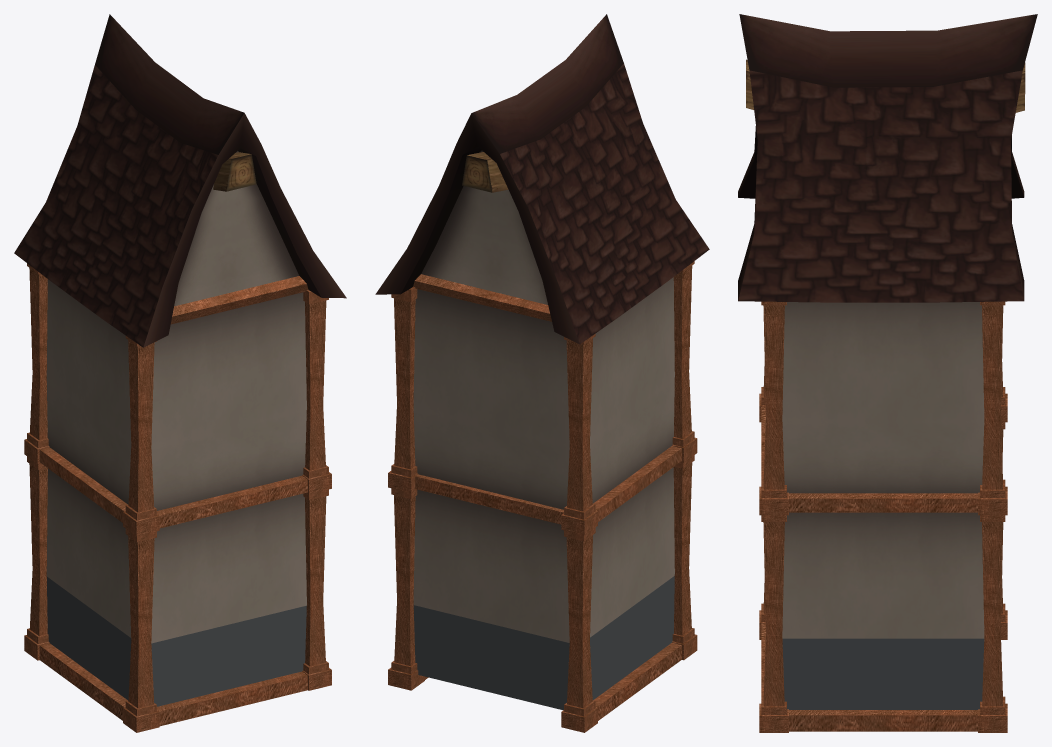
Rendered from fanasty_mod_conjoining_piece_B.fbx.
3 renders of one model, left to right at view 1: azimuth 30°, elevation 25°; view 2: azimuth 150°, elevation 25°; view 3: azimuth 270°, elevation 25°, orthographic. The views are drawn at different scales.
Parts seen in each view (by area): view 1: conjoining_piece_B; view 2: conjoining_piece_B; view 3: conjoining_piece_B.
Part boxes in pixels (left/top/right/bottom): conjoining_piece_B: left=14, top=14, right=346, bottom=732; conjoining_piece_B: left=375, top=14, right=709, bottom=732; conjoining_piece_B: left=738, top=14, right=1037, bottom=732.
Bounding box in the file's own units: 3.85 × 10.88 × 4.43.
